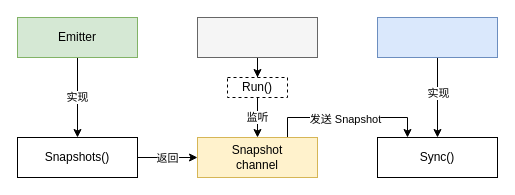
This 515x195 diagram has some shape labels left out. Here are the shapes that lost their labels. From the top down, the centre of each, then its label:
At (x=257, y=37): "EventLoop".
At (x=437, y=37): "Syncer".
